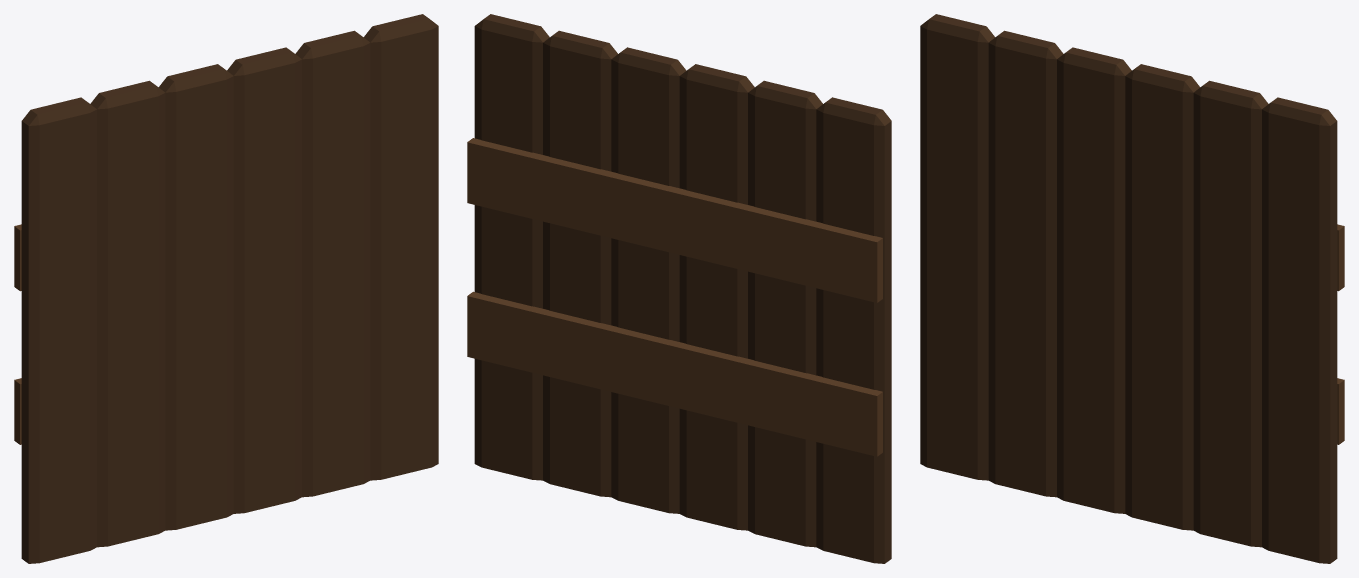
File: Fence_15_Dark_Brown.fbx
3 renders of one model, left to right at view 1: azimuth 30°, elevation 25°; view 2: azimuth 150°, elevation 25°; view 3: azimuth 330°, elevation 25°, orthographic.
Visible parts, largest first — view 1: Fence_15_Dark_Brown; view 2: Fence_15_Dark_Brown; view 3: Fence_15_Dark_Brown.
Boxes of the visible parts, box(x1,y1,x2,y2) form: Fence_15_Dark_Brown: box(14, 14, 438, 563); Fence_15_Dark_Brown: box(467, 14, 891, 563); Fence_15_Dark_Brown: box(920, 14, 1344, 563).
Bounding box in the file's own units: 240 × 250 × 16.73.
